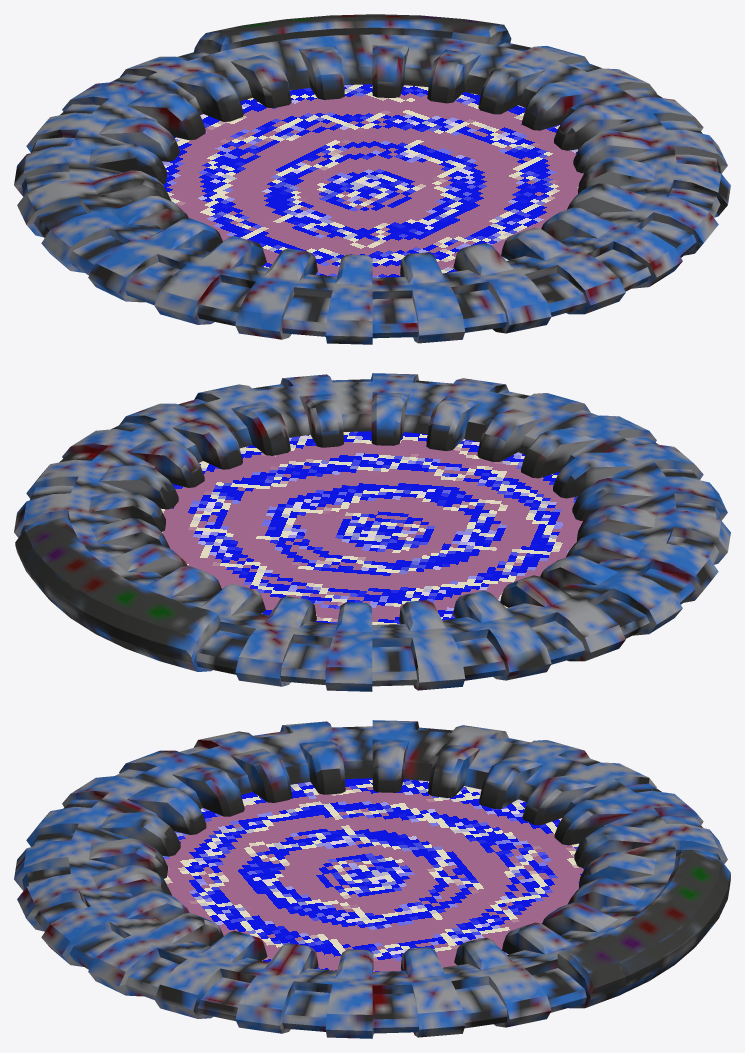
Rendered from PortalWindow.fbx.
3 views of the same model, one above another, from view 1: azimuth 30°, elevation 25°; view 2: azimuth 150°, elevation 25°; view 3: azimuth 270°, elevation 25° (orthographic).
Visible parts, largest first — view 1: Torus, Plane; view 2: Torus, Plane; view 3: Torus, Plane.
Boxes of the visible parts, x1,y1,x2,y2 form: Torus: (14, 14, 730, 344); Plane: (162, 84, 583, 277); Torus: (14, 373, 730, 691); Plane: (161, 431, 582, 624); Torus: (14, 720, 730, 1038); Plane: (163, 778, 584, 971).
Bounding box in the file's own units: 3.72 × 0.363 × 3.72.
Materials: 2 (2 with a texture image).
